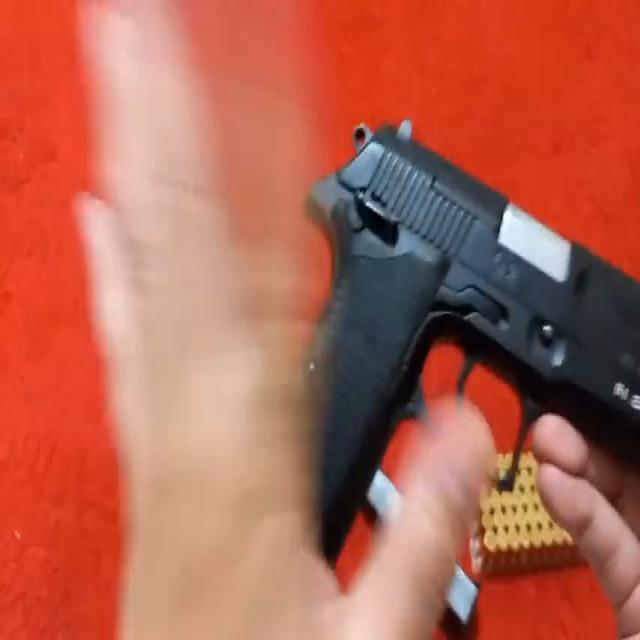handgun: (317, 115, 640, 508)
